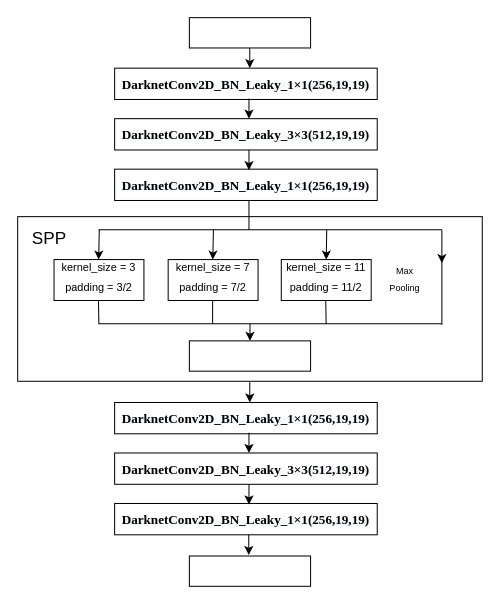
Image size: 500x604. Some labels were removed from this diagram. The shapes that lost their labels are listed below. From the top down, each one's box as (x1, y1, x2, y2) in pixels, then its label:
(188, 17, 311, 48): Input(512,19,19)
(188, 340, 311, 371): Concat(1024,19,19)
(188, 555, 311, 586): Output(256,19,19)
